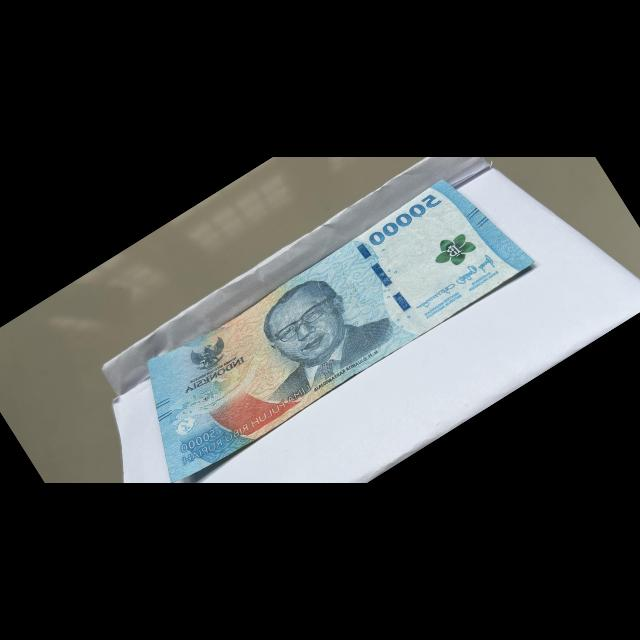Palsu-50k: (115, 157, 540, 484)
Tinta-Palsu-50k: (427, 225, 480, 279)
